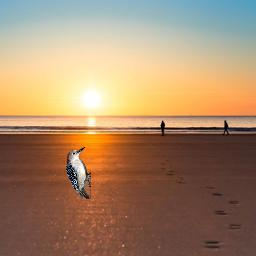Woodpecker: (66, 147, 91, 199)
